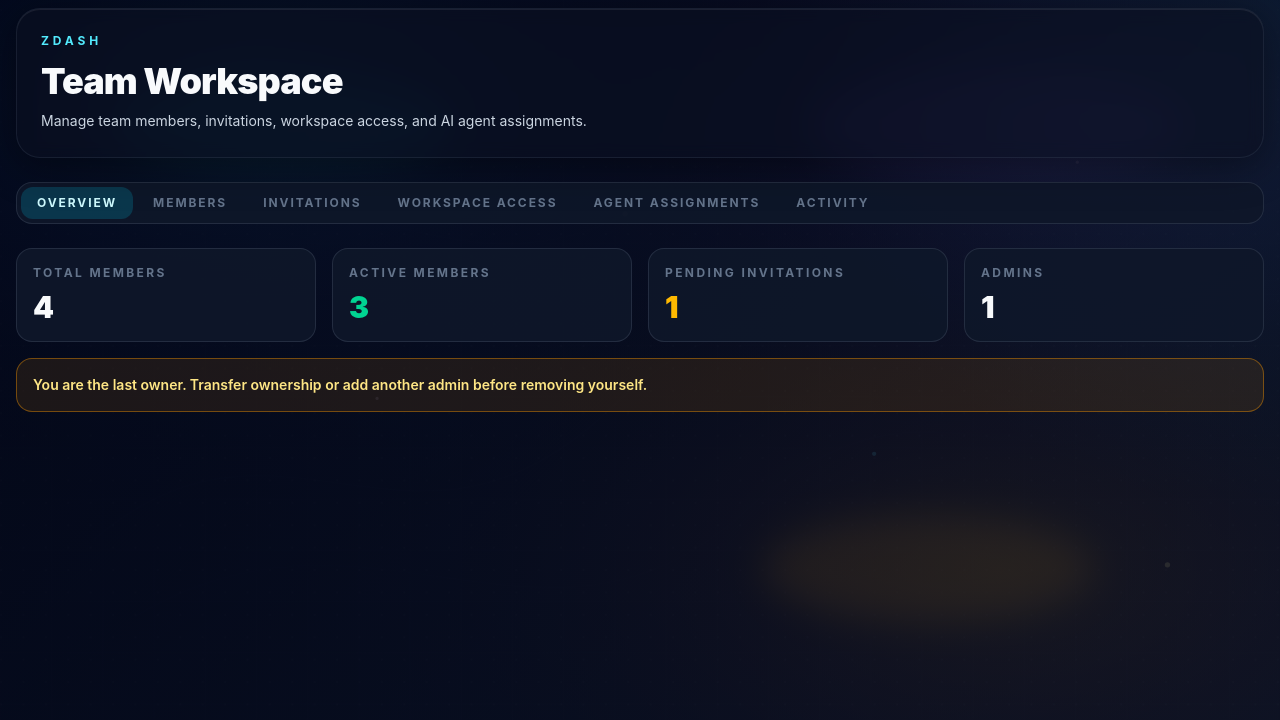
Test: TeamActions › invite form has id/name fields
Click the button "Invitations": point(312, 203) [247,187,378,219]
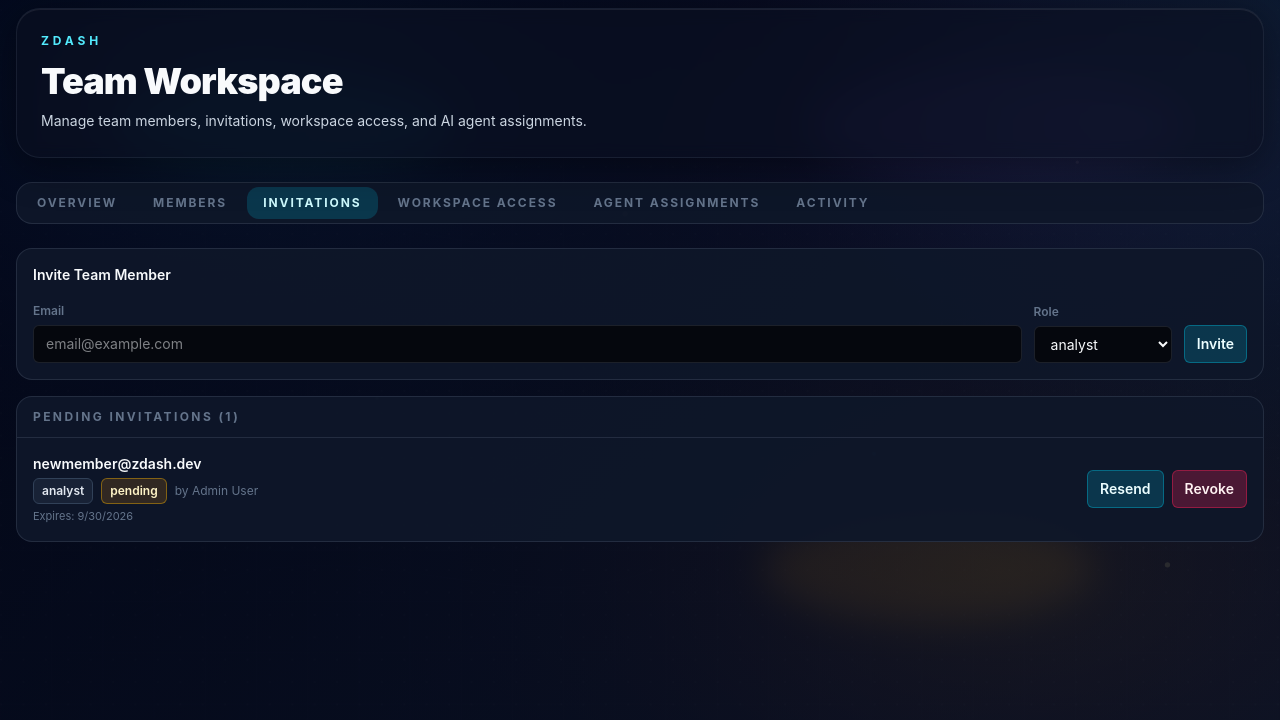
Expected: the heading "Invite Team Member" is shown, [33,266,171,283]
Expected: the field with id "invite-email" is shown, [33,325,1022,363]
Expected: the dropdown with id "invite-role" is shown, [1034,326,1172,363]
